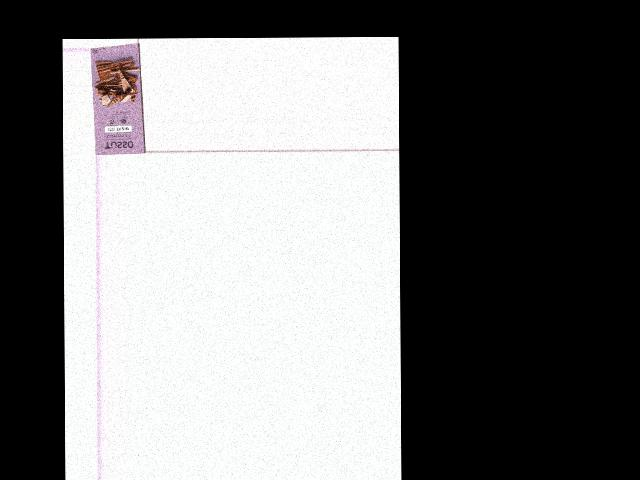chocolate: (93, 43, 142, 152)
